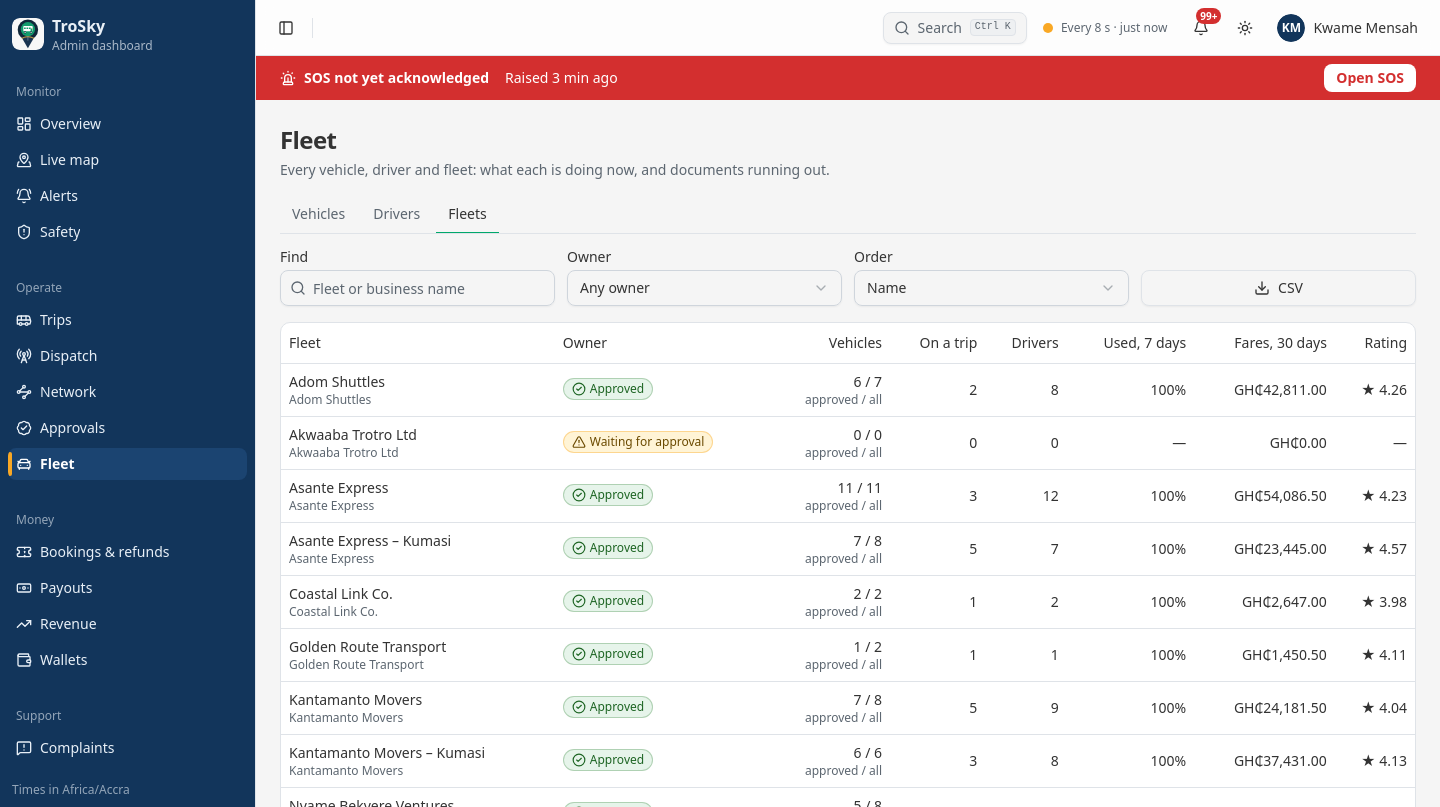
Test: Fleet › opens a fleet with its figures, vehicles and drivers
Click the link "Adom Shuttles" at (337, 381), box [289,372,385,390]
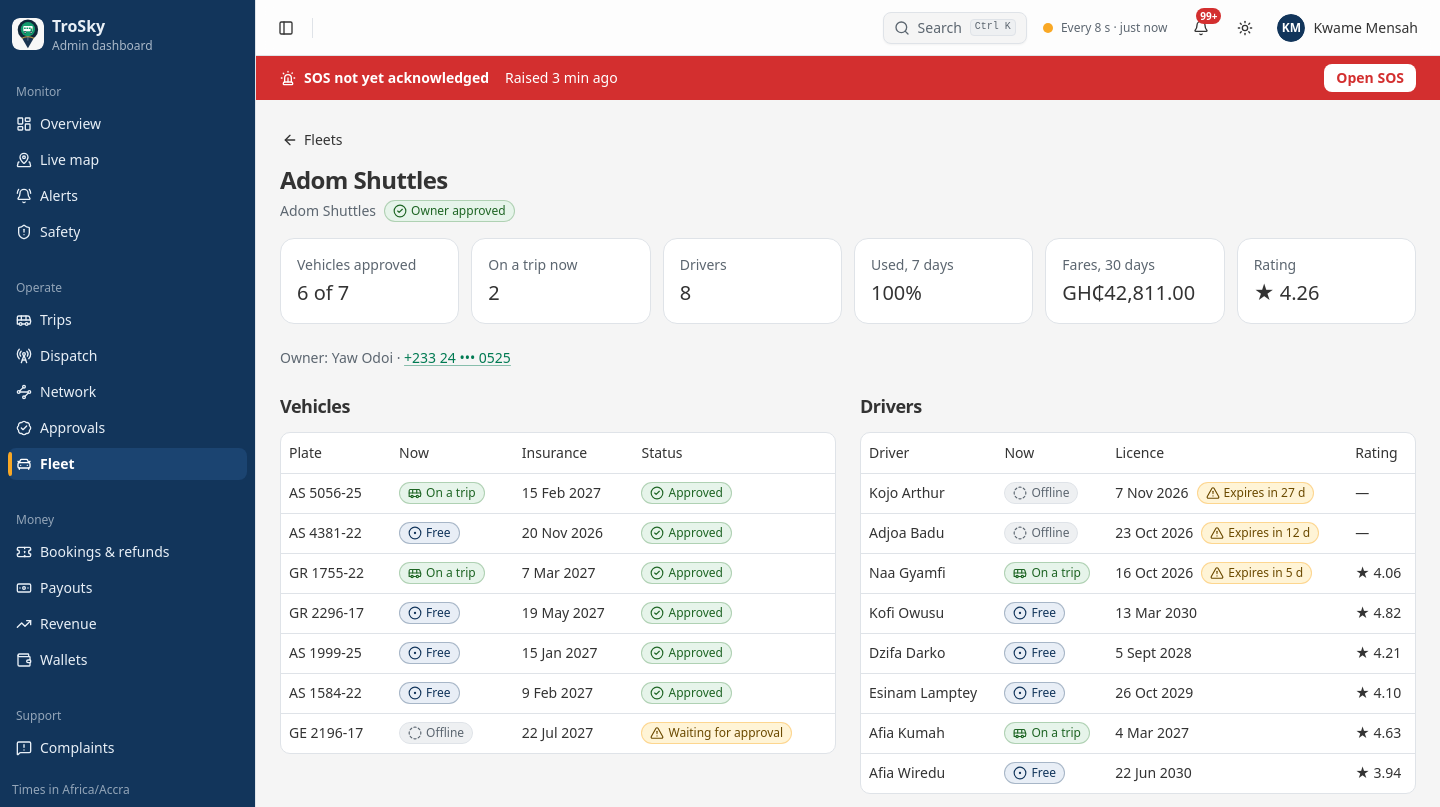
Expected: the heading "Adom Shuttles" is shown, [280,163,448,196]
Expected: the text "Vehicles approved" is shown, [297,255,416,274]
Expected: the table named "The fleet’s vehicles" is shown, [281,433,835,752]
